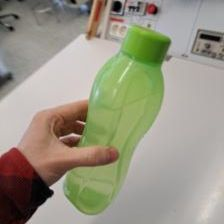bottle: (61, 21, 172, 216)
